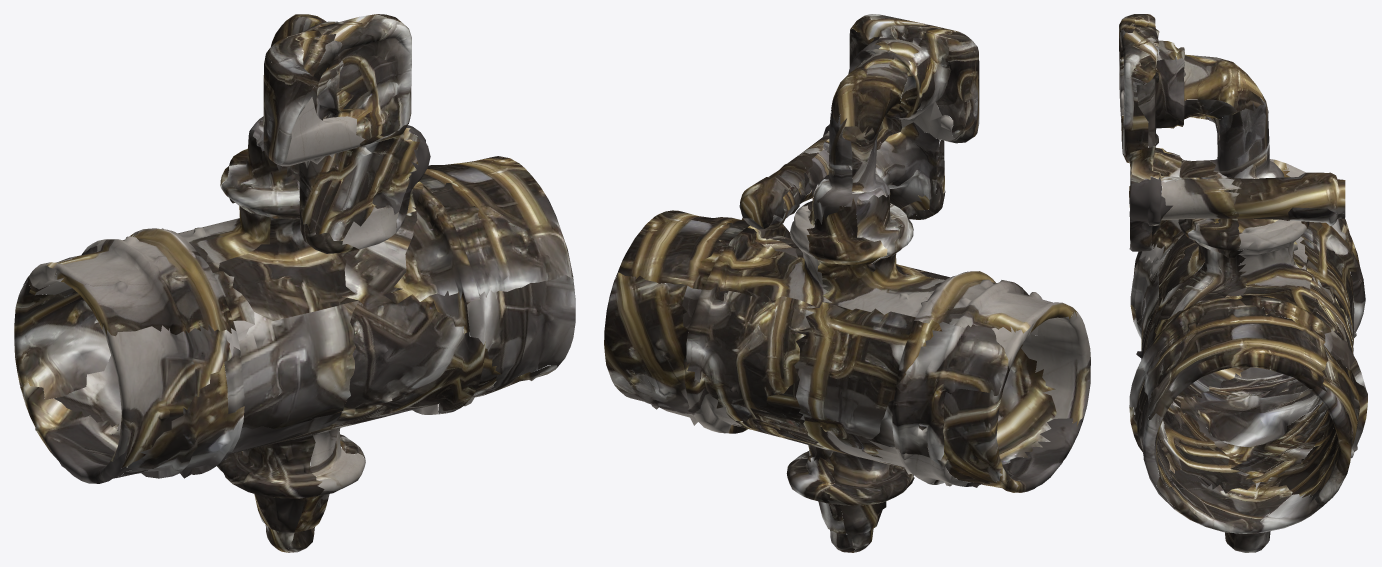
File: prop_pneumatic_tube_intake_funnel.glb
3 renders of one model, left to right at view 1: azimuth 30°, elevation 25°; view 2: azimuth 150°, elevation 25°; view 3: azimuth 270°, elevation 25°, orthographic. The views are drawn at different scales.
Visible parts, largest first — view 1: tripo_node_cef0a5ee-d98c-46c0-b6c0-449350a59281; view 2: tripo_node_cef0a5ee-d98c-46c0-b6c0-449350a59281; view 3: tripo_node_cef0a5ee-d98c-46c0-b6c0-449350a59281.
Part boxes in pixels (x1,y1,x2,y2): tripo_node_cef0a5ee-d98c-46c0-b6c0-449350a59281: (14, 14, 575, 552); tripo_node_cef0a5ee-d98c-46c0-b6c0-449350a59281: (604, 14, 1090, 552); tripo_node_cef0a5ee-d98c-46c0-b6c0-449350a59281: (1119, 14, 1367, 552).
Size of the model in its own units: 0.8486 by 0.9984 by 0.4447.
1 material, 1 textured.
